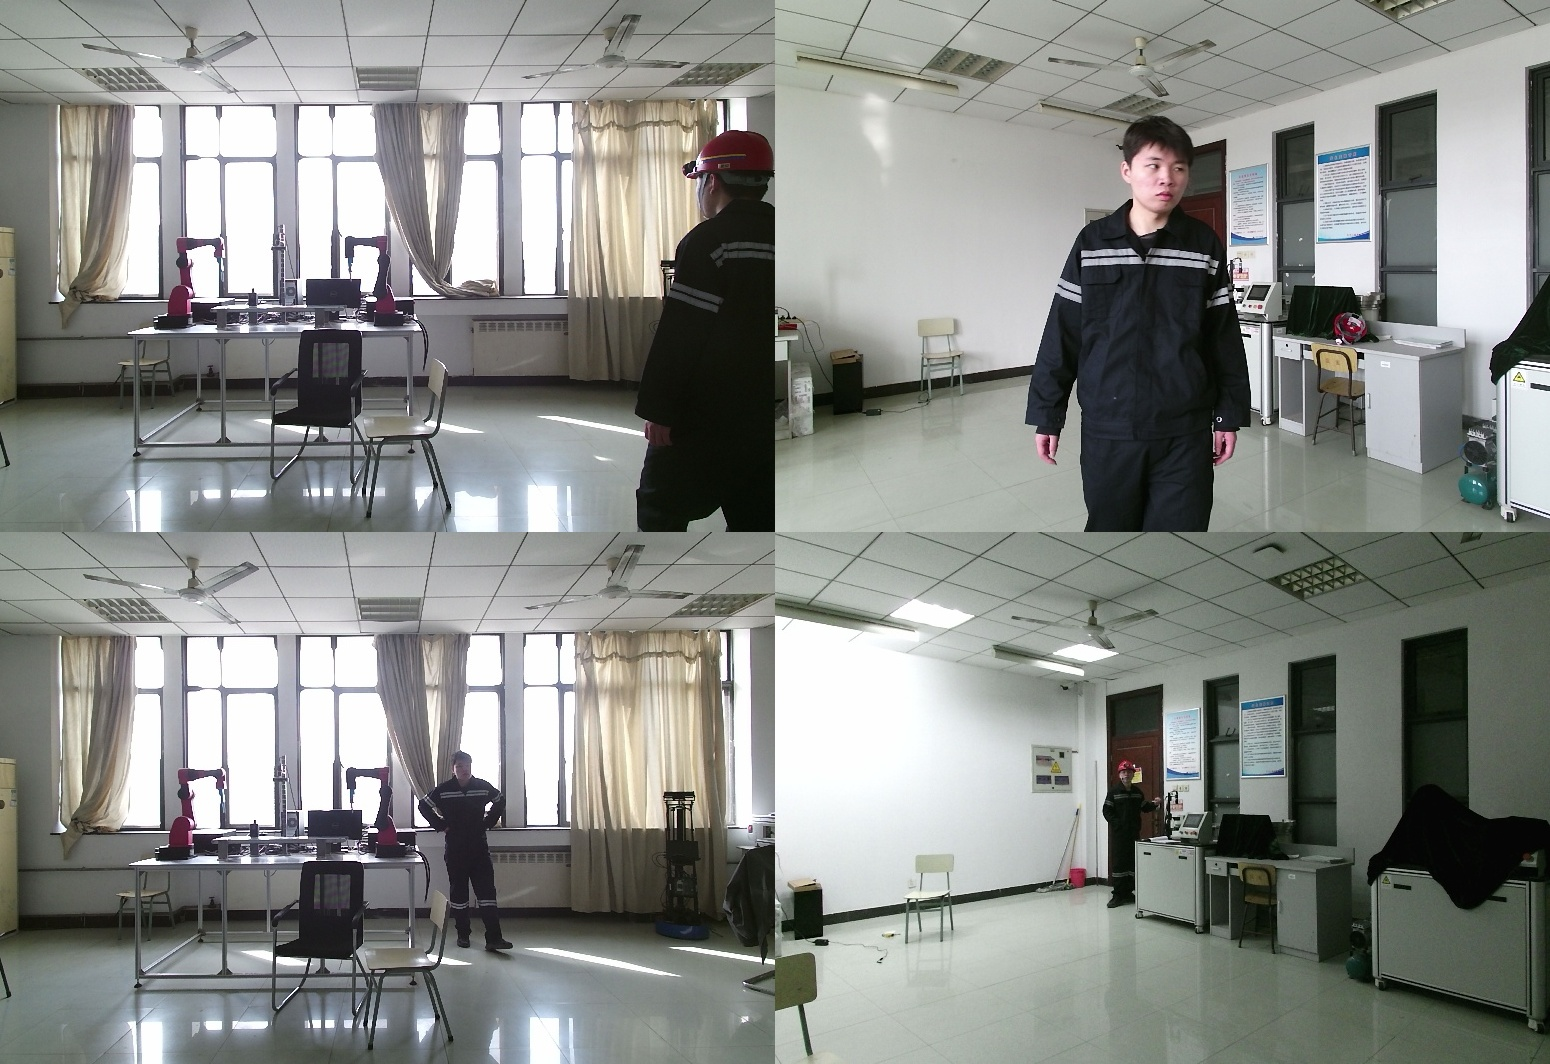person: (1029, 116, 1257, 532), (636, 131, 775, 532), (420, 751, 515, 957), (1104, 761, 1167, 913)
